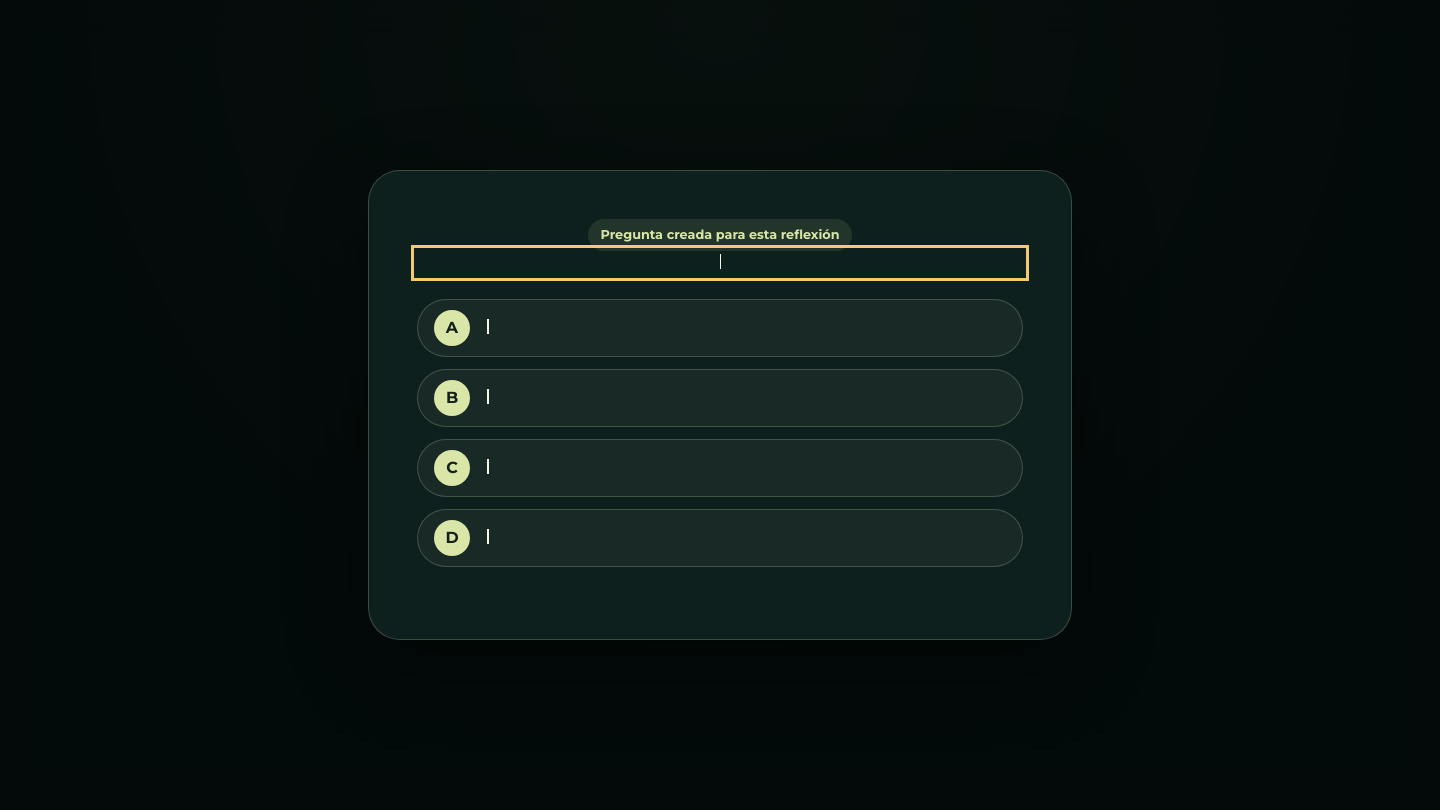
Test: SelahOverlay › translates origin and incorrect feedback while preserving API content
Check: the text "Pregunta creada para esta reflexión" is shown, box x1=588 y1=219 x2=852 y2=251
Click the button named "Opción A: A luz". click: {"x": 452, "y": 328}
box: x1=417 y1=299 x2=1023 y2=357
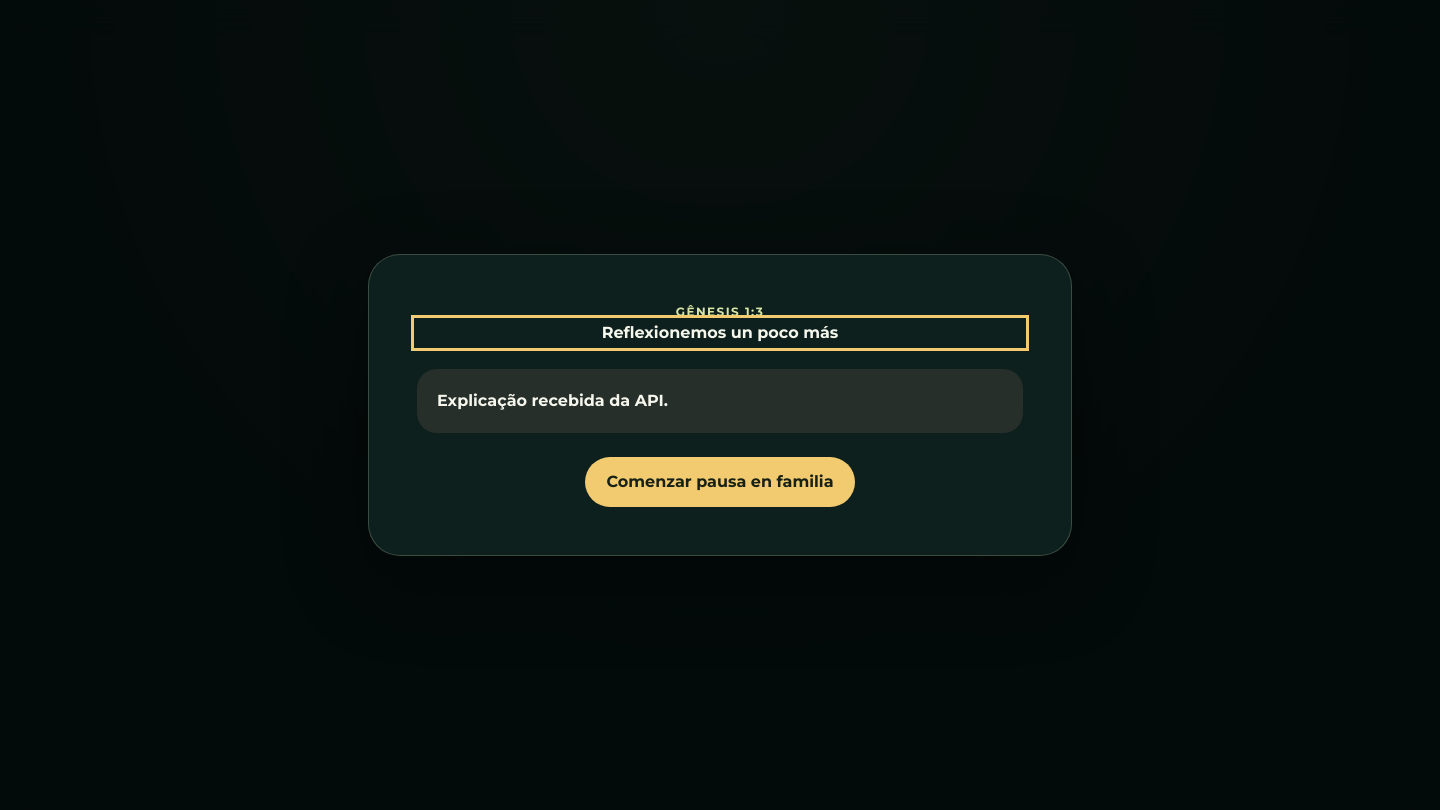
Check: the heading "Reflexionemos un poco más" is shown, box x1=602 y1=323 x2=838 y2=342
